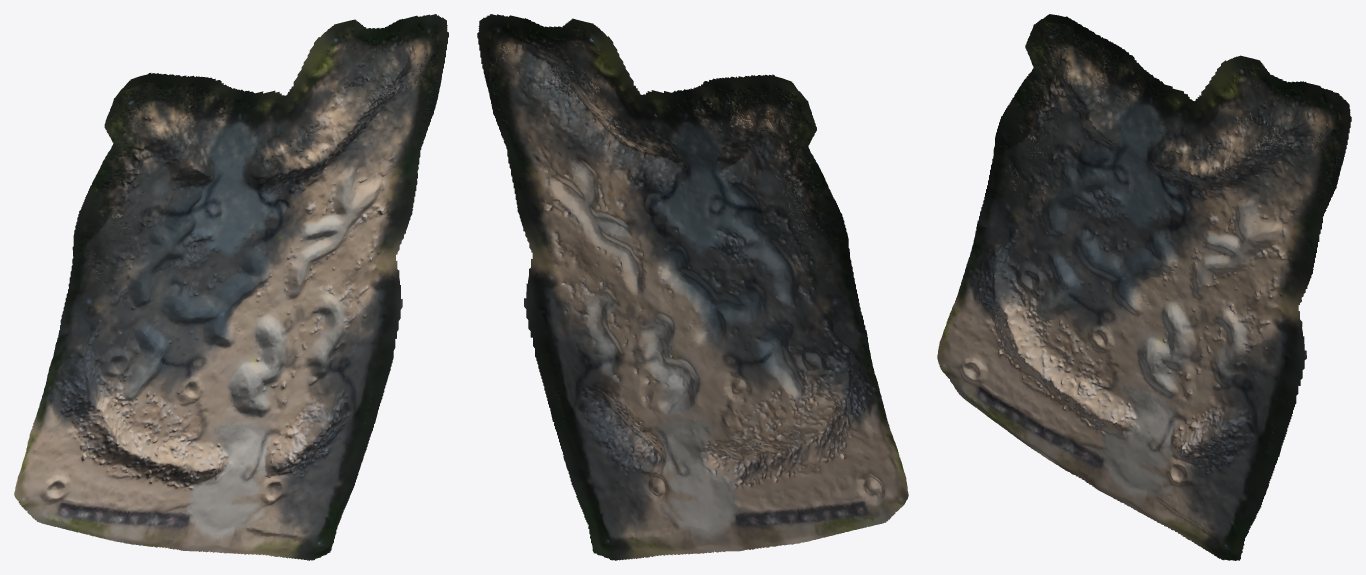
Rendered from marsyard2026_collision.obj.
The picture shows the model from 3 angles, left to right: view 1: azimuth 30°, elevation 25°; view 2: azimuth 150°, elevation 25°; view 3: azimuth 330°, elevation 25°; orthographic projection. The views are drawn at different scales.
Bounding box in the file's own units: 37.37 × 43.81 × 2.39.
